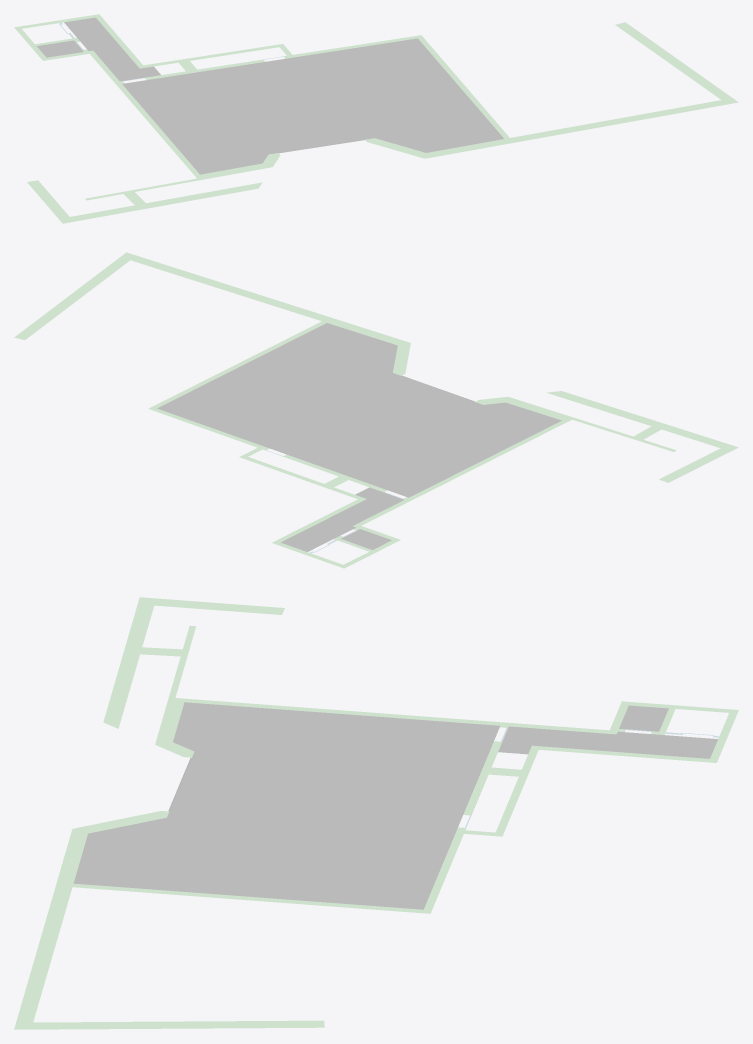
The model's file is floor-488650.glb.
The picture shows the model from 3 angles, top to bottom: view 1: azimuth 30°, elevation 25°; view 2: azimuth 150°, elevation 25°; view 3: azimuth 270°, elevation 25°; orthographic projection. The views are drawn at different scales.
Visible parts, largest first — view 1: SectionBody_4,9262e225-3d3e-4223-af8c-39a43748f051, SectionBody_39,79dacf31-d170-4d42-8cd6-e2502d9dd912, SectionBody_5,f5be9884-1ec4-4bdf-83fe-4a4f57898bca, SectionBody_33,188ced9f-8953-4fa2-9da6-4d38ebbba89a, SectionBody_14,817ea7ed-bc4a-429e-8aee-e4c509cef56e, SectionBody_31,56e9920e-9171-40fc-aef1-674cbf696aba, SectionBody_35,97a04eb2-c051-4e70-8a77-125c31b0593a, SectionBody_34,411345c2-e148-4ff6-b8ca-cf33021b04e4, SectionBody_28,4a787c18-0a65-4c3d-a247-b4a747b72b2c, SectionBody_32,5d698d65-98b9-433e-8304-2e90b4b09615, SectionBody_15,f6f1b012-7715-42a3-9133-fb42fe1856f1, SectionBody_13,773b7b34-930c-4fec-8f25-2490a8cc6f6e (+2 smaller); view 2: SectionBody_4,9262e225-3d3e-4223-af8c-39a43748f051, SectionBody_39,79dacf31-d170-4d42-8cd6-e2502d9dd912, SectionBody_5,f5be9884-1ec4-4bdf-83fe-4a4f57898bca, SectionBody_33,188ced9f-8953-4fa2-9da6-4d38ebbba89a, SectionBody_14,817ea7ed-bc4a-429e-8aee-e4c509cef56e, SectionBody_31,56e9920e-9171-40fc-aef1-674cbf696aba, SectionBody_35,97a04eb2-c051-4e70-8a77-125c31b0593a, SectionBody_28,4a787c18-0a65-4c3d-a247-b4a747b72b2c, SectionBody_34,411345c2-e148-4ff6-b8ca-cf33021b04e4; view 3: SectionBody_4,9262e225-3d3e-4223-af8c-39a43748f051, SectionBody_39,79dacf31-d170-4d42-8cd6-e2502d9dd912, SectionBody_5,f5be9884-1ec4-4bdf-83fe-4a4f57898bca, SectionBody_14,817ea7ed-bc4a-429e-8aee-e4c509cef56e, SectionBody_33,188ced9f-8953-4fa2-9da6-4d38ebbba89a, SectionBody_31,56e9920e-9171-40fc-aef1-674cbf696aba, SectionBody_35,97a04eb2-c051-4e70-8a77-125c31b0593a, SectionBody_28,4a787c18-0a65-4c3d-a247-b4a747b72b2c, SectionBody_34,411345c2-e148-4ff6-b8ca-cf33021b04e4, SectionBody_32,5d698d65-98b9-433e-8304-2e90b4b09615, SectionBody_41,ffc838d8-f05f-4896-900f-1263455c88a6, SectionBody_15,f6f1b012-7715-42a3-9133-fb42fe1856f1 (+2 smaller).
Boxes of the visible parts, <box> form: SectionBody_4,9262e225-3d3e-4223-af8c-39a43748f051: <box>122,38,503,174</box>; SectionBody_39,79dacf31-d170-4d42-8cd6-e2502d9dd912: <box>64,17,160,81</box>; SectionBody_5,f5be9884-1ec4-4bdf-83fe-4a4f57898bca: <box>413,98,738,158</box>; SectionBody_33,188ced9f-8953-4fa2-9da6-4d38ebbba89a: <box>59,182,262,223</box>; SectionBody_14,817ea7ed-bc4a-429e-8aee-e4c509cef56e: <box>615,22,731,99</box>; SectionBody_31,56e9920e-9171-40fc-aef1-674cbf696aba: <box>90,53,199,175</box>; SectionBody_35,97a04eb2-c051-4e70-8a77-125c31b0593a: <box>416,35,509,138</box>; SectionBody_34,411345c2-e148-4ff6-b8ca-cf33021b04e4: <box>37,40,83,57</box>; SectionBody_28,4a787c18-0a65-4c3d-a247-b4a747b72b2c: <box>27,180,69,218</box>; SectionBody_32,5d698d65-98b9-433e-8304-2e90b4b09615: <box>138,44,284,68</box>; SectionBody_15,f6f1b012-7715-42a3-9133-fb42fe1856f1: <box>287,36,417,57</box>; SectionBody_13,773b7b34-930c-4fec-8f25-2490a8cc6f6e: <box>120,56,288,83</box>; SectionBody_4,9262e225-3d3e-4223-af8c-39a43748f051: <box>157,323,561,497</box>; SectionBody_39,79dacf31-d170-4d42-8cd6-e2502d9dd912: <box>281,487,404,551</box>; SectionBody_5,f5be9884-1ec4-4bdf-83fe-4a4f57898bca: <box>121,252,410,349</box>; SectionBody_33,188ced9f-8953-4fa2-9da6-4d38ebbba89a: <box>547,391,738,451</box>; SectionBody_14,817ea7ed-bc4a-429e-8aee-e4c509cef56e: <box>14,257,129,339</box>; SectionBody_31,56e9920e-9171-40fc-aef1-674cbf696aba: <box>357,420,566,525</box>; SectionBody_35,97a04eb2-c051-4e70-8a77-125c31b0593a: <box>148,321,326,410</box>; SectionBody_28,4a787c18-0a65-4c3d-a247-b4a747b72b2c: <box>659,448,730,482</box>; SectionBody_34,411345c2-e148-4ff6-b8ca-cf33021b04e4: <box>341,529,391,549</box>; SectionBody_4,9262e225-3d3e-4223-af8c-39a43748f051: <box>73,702,499,909</box>; SectionBody_39,79dacf31-d170-4d42-8cd6-e2502d9dd912: <box>498,726,717,758</box>; SectionBody_5,f5be9884-1ec4-4bdf-83fe-4a4f57898bca: <box>14,825,90,1029</box>; SectionBody_14,817ea7ed-bc4a-429e-8aee-e4c509cef56e: <box>31,1020,324,1029</box>; SectionBody_33,188ced9f-8953-4fa2-9da6-4d38ebbba89a: <box>103,597,156,728</box>; SectionBody_31,56e9920e-9171-40fc-aef1-674cbf696aba: <box>184,698,609,733</box>; SectionBody_35,97a04eb2-c051-4e70-8a77-125c31b0593a: <box>72,883,431,913</box>; SectionBody_28,4a787c18-0a65-4c3d-a247-b4a747b72b2c: <box>154,598,284,614</box>; SectionBody_34,411345c2-e148-4ff6-b8ca-cf33021b04e4: <box>619,705,668,731</box>; SectionBody_32,5d698d65-98b9-433e-8304-2e90b4b09615: <box>494,745,539,836</box>; SectionBody_41,ffc838d8-f05f-4896-900f-1263455c88a6: <box>539,746,717,762</box>; SectionBody_15,f6f1b012-7715-42a3-9133-fb42fe1856f1: <box>424,829,465,910</box>.
Bounding box in the file's own units: 30107 × 0 × 21325.
